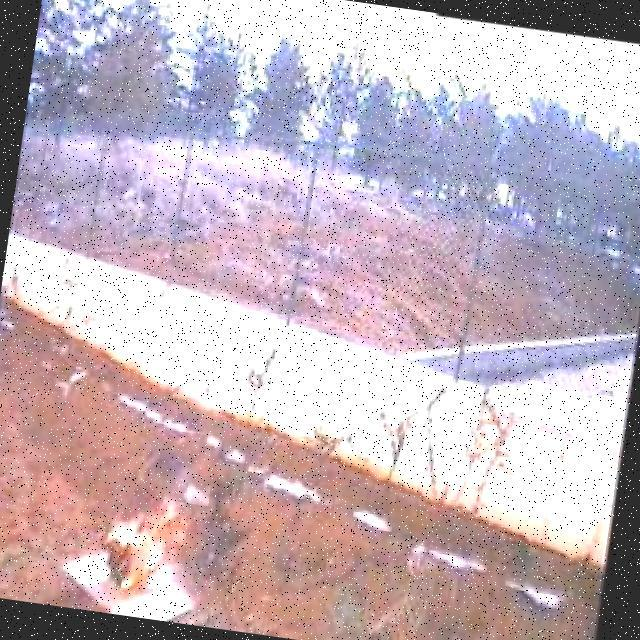Fire: (93, 480, 199, 608)
